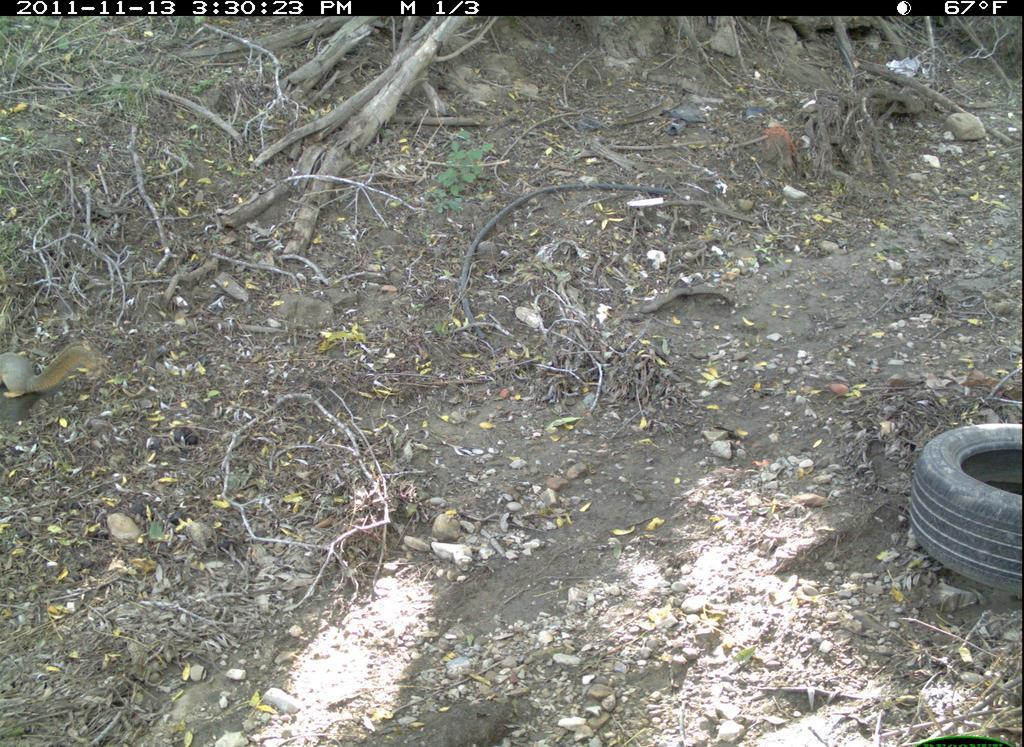squirrel: (2, 321, 120, 406)
